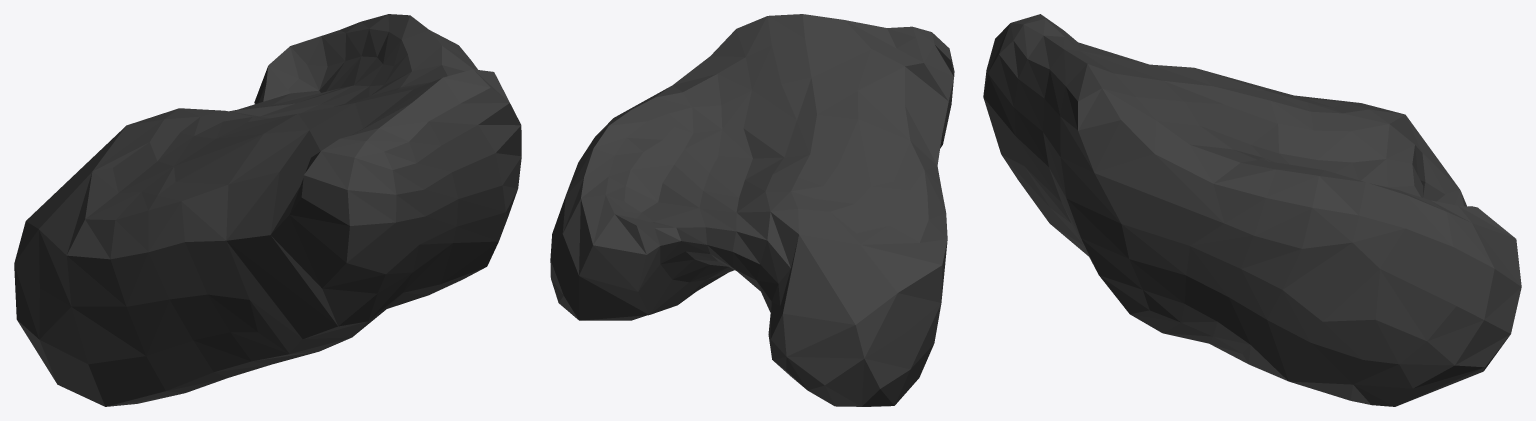
Rendered from LHL_femur3.glb.
3 renders of one model, left to right at view 1: azimuth 30°, elevation 25°; view 2: azimuth 150°, elevation 25°; view 3: azimuth 270°, elevation 25°, orthographic. The views are drawn at different scales.
Parts seen in each view (by area): view 1: LHL_femur3; view 2: LHL_femur3; view 3: LHL_femur3.
Boxes of the visible parts, x1,y1,x2,y2 form: LHL_femur3: (14, 14, 521, 406); LHL_femur3: (550, 14, 954, 406); LHL_femur3: (983, 14, 1521, 406).
Size of the model in its own units: 21.69 by 16.81 by 23.38.
1 material, 1 textured.
